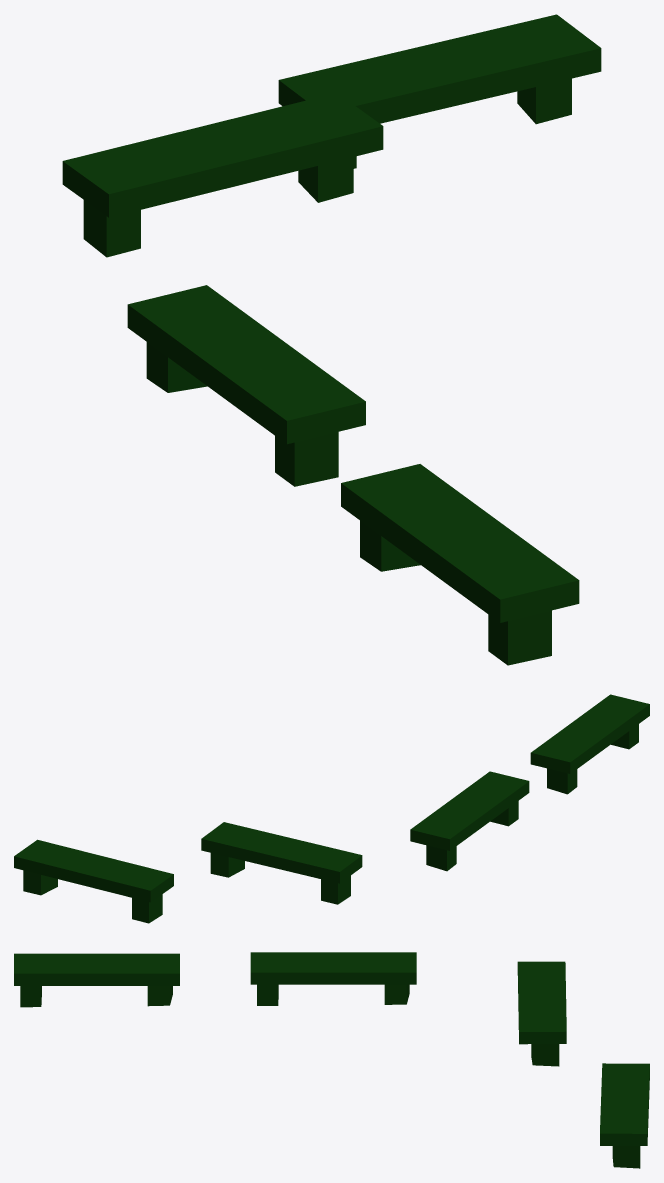
Rendered from Practice_House_BenchesFINglb.glb.
The picture shows the model from 3 angles, top to bottom: view 1: azimuth 30°, elevation 25°; view 2: azimuth 150°, elevation 25°; view 3: azimuth 270°, elevation 25°; orthographic projection. The views are drawn at different scales.
Parts seen in each view (by area): view 1: Cube.003, Cube.002, Cube, Cube.004; view 2: Cube.003, Cube.004, Cube.002, Cube; view 3: Cube.002, Cube, Cube.003, Cube.004.
Boxes of the visible parts, box(x1,y1,x2,y2) form: Cube.003: box(62, 93, 383, 257); Cube.002: box(127, 285, 365, 486); Cube: box(341, 464, 579, 665); Cube.004: box(278, 14, 601, 168); Cube.003: box(201, 822, 362, 904); Cube.004: box(14, 839, 173, 923); Cube.002: box(410, 771, 529, 871); Cube: box(530, 694, 649, 794); Cube.002: box(250, 952, 416, 1005); Cube: box(14, 953, 179, 1007); Cube.003: box(517, 961, 566, 1066); Cube.004: box(600, 1063, 649, 1168).
Size of what is drawn, in the model's own units: 17.82 by 3.22 by 28.34.
